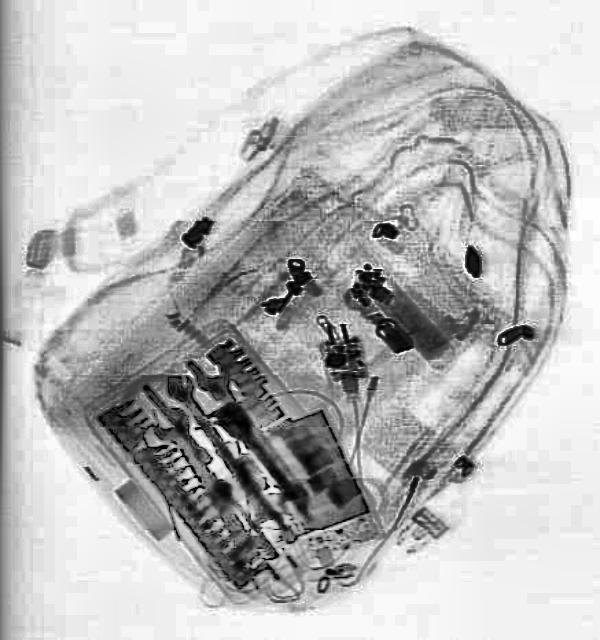Wrench: (157, 364, 304, 548), (142, 396, 278, 576)
